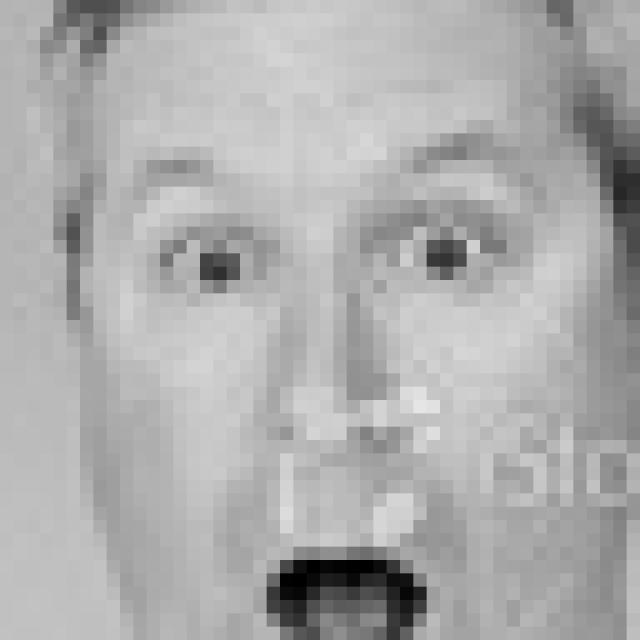surprise: (121, 113, 565, 640)
